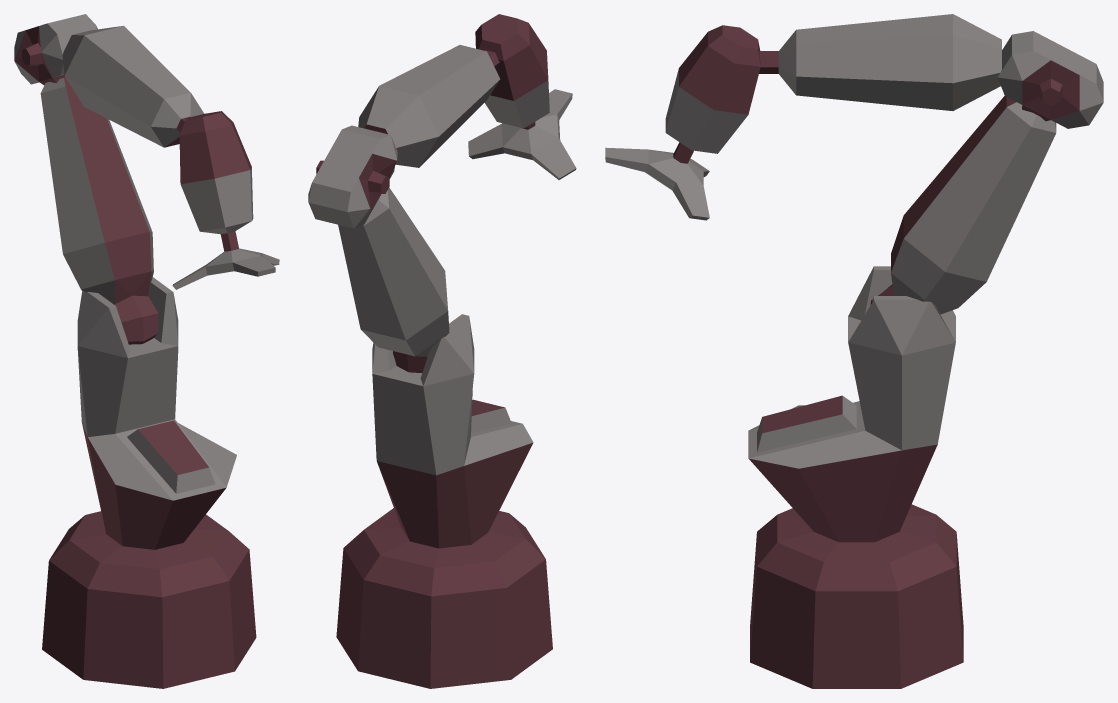
Rendered from scifi-robotic-arm.fbx.
3 views of the same model, side by side, from view 1: azimuth 30°, elevation 25°; view 2: azimuth 150°, elevation 25°; view 3: azimuth 270°, elevation 25° (orthographic). The views are drawn at different scales.
Visible parts, largest first — view 1: scifi-robotic-arm-base, scifi-robotic-arm-first, scifi-robotic-arm-third, scifi-robotic-arm-hand, scifi-robotic-arm-second; view 2: scifi-robotic-arm-base, scifi-robotic-arm-first, scifi-robotic-arm-hand, scifi-robotic-arm-third, scifi-robotic-arm-second; view 3: scifi-robotic-arm-base, scifi-robotic-arm-first, scifi-robotic-arm-third, scifi-robotic-arm-hand, scifi-robotic-arm-second.
Boxes of the visible parts, x1,y1,x2,y2 form: scifi-robotic-arm-base: (42, 277, 256, 688); scifi-robotic-arm-first: (40, 77, 158, 344); scifi-robotic-arm-third: (62, 25, 204, 147); scifi-robotic-arm-hand: (172, 111, 279, 289); scifi-robotic-arm-second: (14, 14, 97, 85); scifi-robotic-arm-base: (336, 314, 552, 688); scifi-robotic-arm-first: (338, 187, 449, 372); scifi-robotic-arm-hand: (468, 14, 576, 179); scifi-robotic-arm-third: (358, 45, 500, 167); scifi-robotic-arm-second: (308, 125, 397, 228); scifi-robotic-arm-base: (748, 266, 963, 688); scifi-robotic-arm-first: (870, 96, 1056, 314); scifi-robotic-arm-third: (759, 14, 1001, 110); scifi-robotic-arm-hand: (605, 25, 760, 220); scifi-robotic-arm-second: (997, 31, 1103, 128).
Bounding box in the file's own units: 0.6324 × 2.03 × 1.48.
